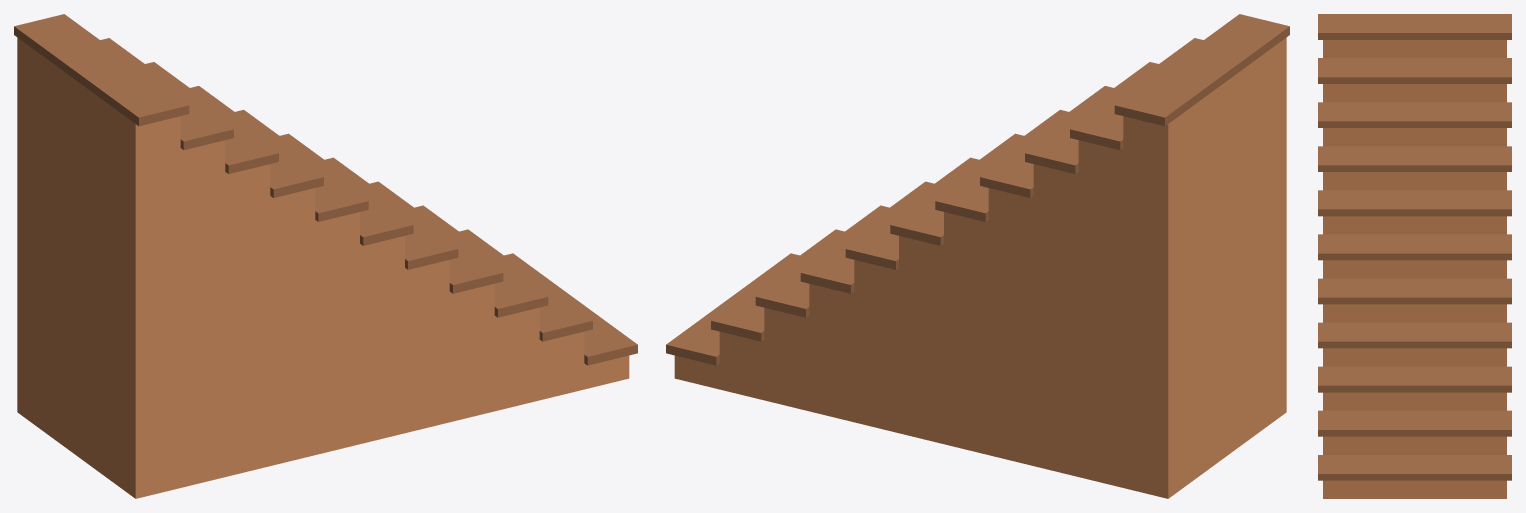
Rendered from stairs.obj.
The picture shows the model from 3 angles, left to right: view 1: azimuth 30°, elevation 25°; view 2: azimuth 150°, elevation 25°; view 3: azimuth 270°, elevation 25°; orthographic projection. The views are drawn at different scales.
Visible parts, largest first — view 1: stairs; view 2: stairs; view 3: stairs.
Part boxes in pixels (x1,y1,x2,y2): stairs: [14, 14, 637, 498]; stairs: [666, 14, 1289, 498]; stairs: [1318, 14, 1511, 498].
Size of the model in its own units: 1.82 by 1.34 by 0.79.
